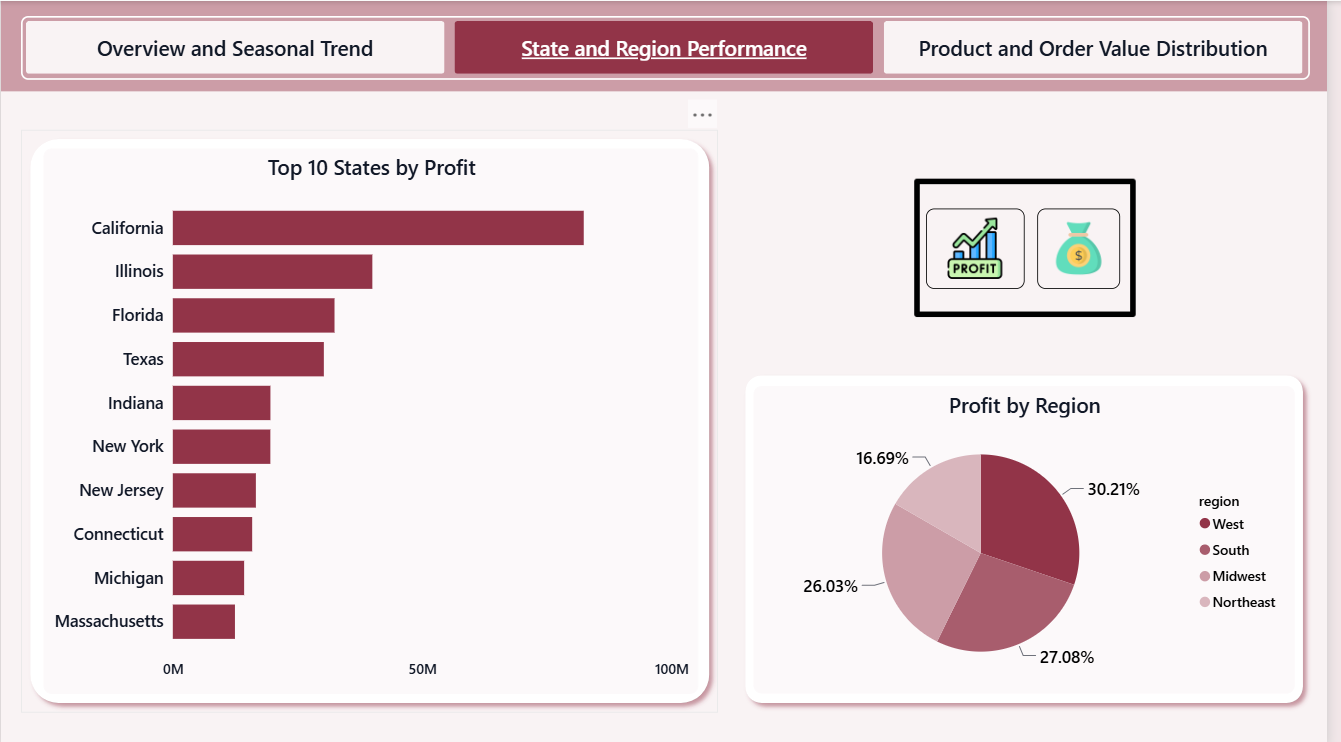

Layout of this report page (visuals, bound fields, positions):
{"tool":"powerbi","page":{"name":"State and Region Performance","canvas":[1280,720],"ordinal":1},"visuals":[{"type":"shape","box":[19.3,124.3,673.2,562.2],"z":0},{"type":"shape","box":[709.4,352.3,556.2,334.2],"z":2000},{"type":"clusteredBarChart","title":"Top 10 States by Profit","fields":{"Category":["final.state_name"],"Y":["Sum(final.profit)"]},"box":[41,142.4,632.2,526],"z":4000},{"type":"image","box":[802.3,124.3,371.6,228],"z":5000},{"type":"pieChart","title":"Profit by Region","fields":{"Category":["final.region"],"Y":["Sum(final.profit)"]},"box":[725.9,371.6,522,296.4],"z":6000},{"type":"image","title":"SP","box":[892.8,200.3,95.3,77.2],"z":7000},{"type":"image","title":"SR","box":[1000.1,200.3,79.6,77.2],"z":8000},{"type":"shape","box":[0,0,1280.3,86.8],"z":9000},{"type":"pageNavigator","box":[19.3,14.5,1243.8,61.5],"z":10000}]}

Visuals, with their boxes in screenshot pixels (x1, y1, x2, y2), scaled from the page's 1280x720 canvas onto the 1341x742 screenshot:
shape: <region>20, 128, 726, 707</region>
shape: <region>743, 363, 1326, 707</region>
"Top 10 States by Profit" clusteredBarChart: <region>43, 147, 705, 689</region>
image: <region>841, 128, 1230, 363</region>
"Profit by Region" pieChart: <region>760, 383, 1307, 688</region>
"SP" image: <region>935, 206, 1035, 286</region>
"SR" image: <region>1048, 206, 1131, 286</region>
shape: <region>0, 0, 1340, 89</region>
pageNavigator: <region>20, 15, 1323, 78</region>
